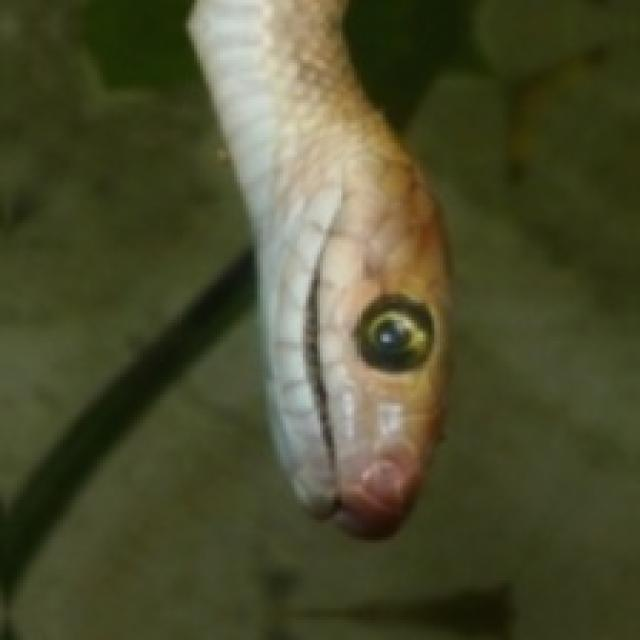reddish rat snake: (189, 0, 446, 534)
